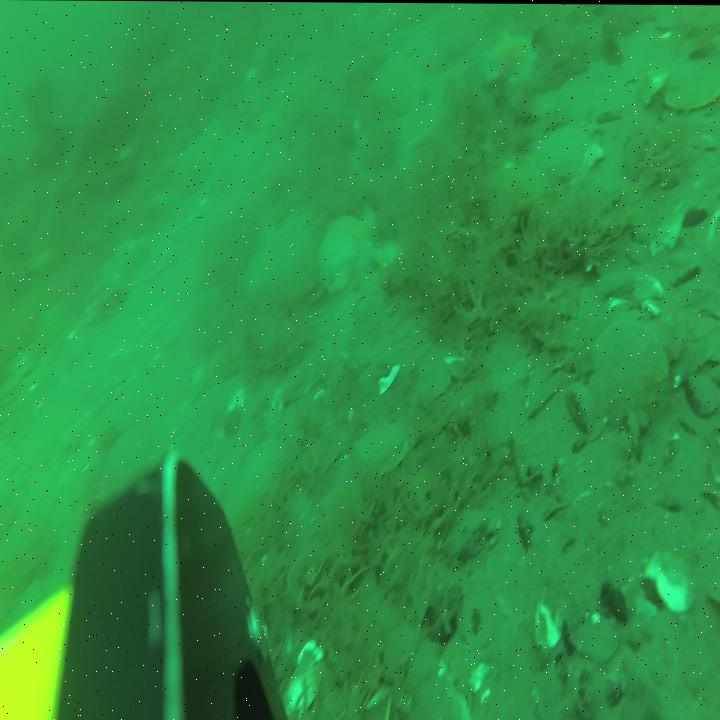scallop: (589, 314, 666, 404), (354, 418, 418, 474), (537, 122, 600, 178), (662, 55, 720, 113), (577, 612, 617, 659)
starfish: (314, 210, 374, 284), (485, 29, 535, 86)
